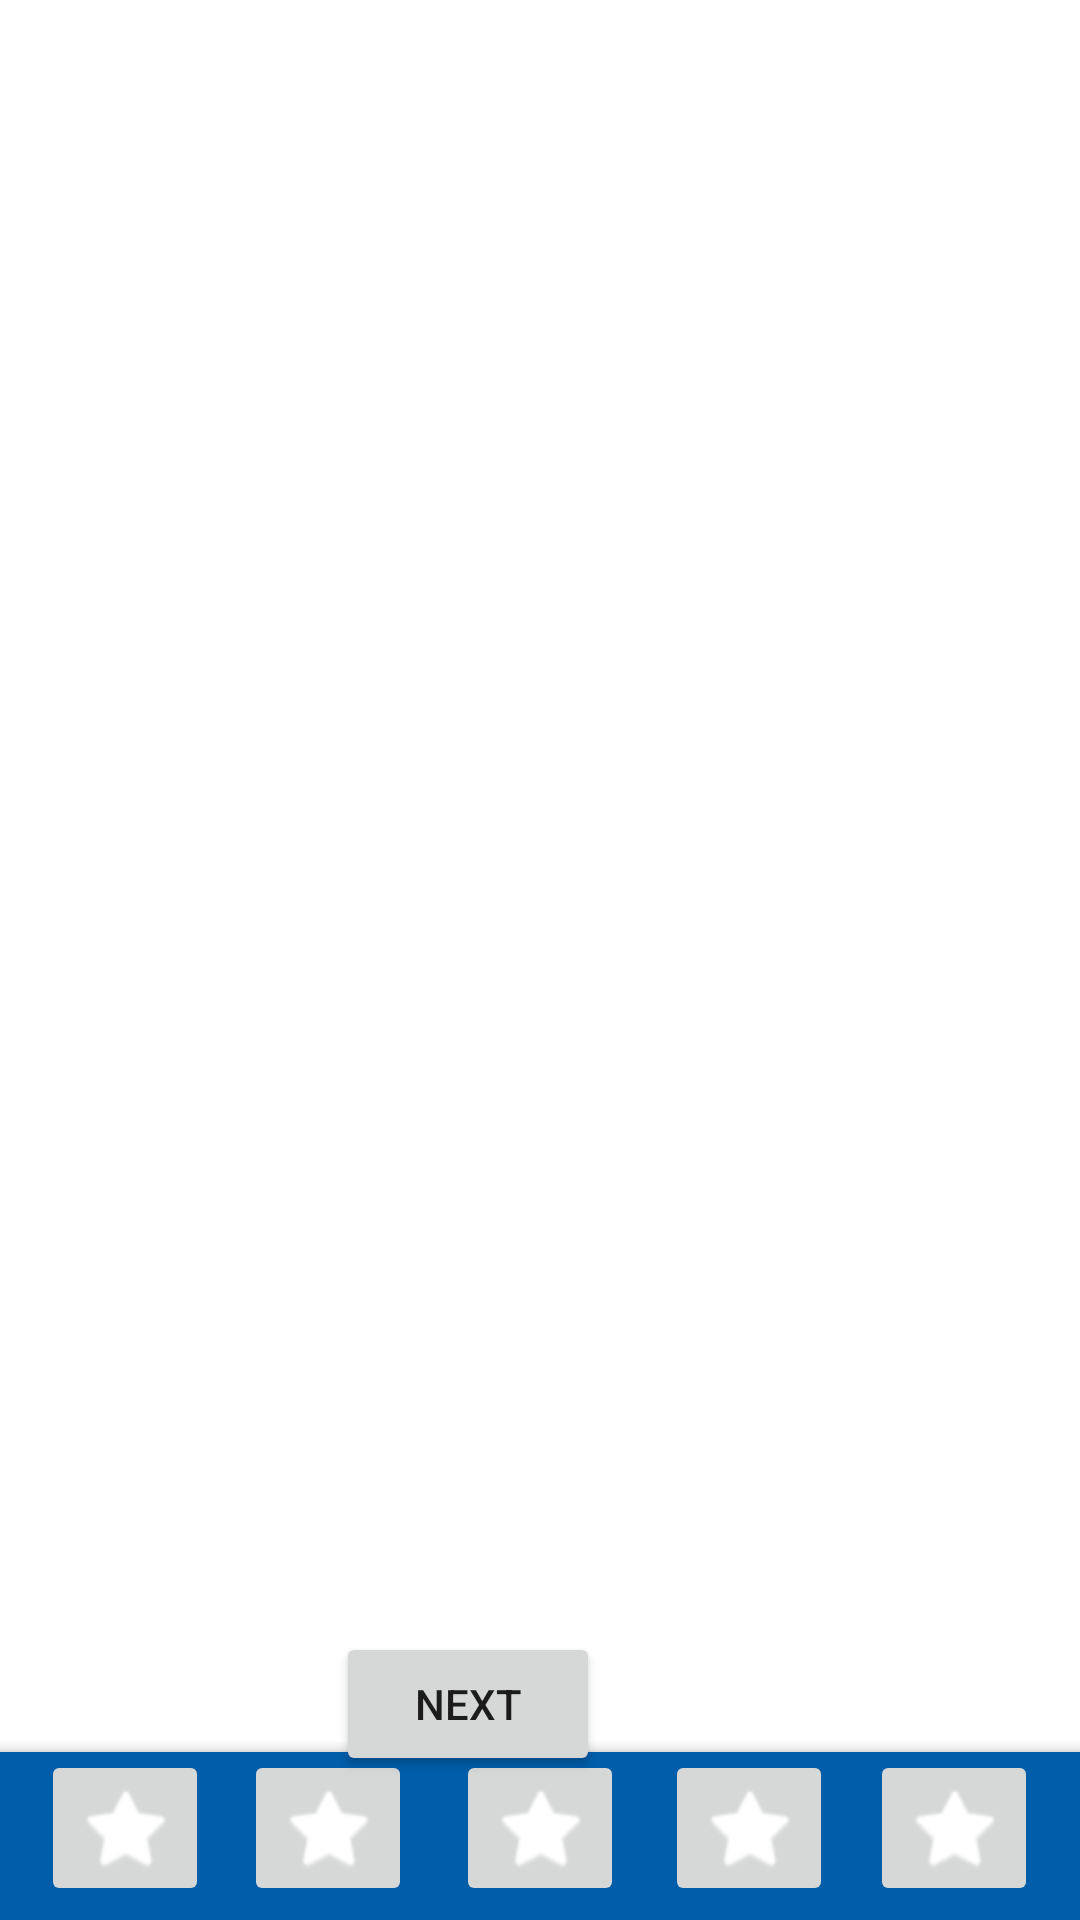

Icon click points for this 1080 × 1920 phone screenshot, format point (x, y):
star on: point (125, 1828), point (328, 1828), point (540, 1828), point (749, 1828), point (954, 1828)
